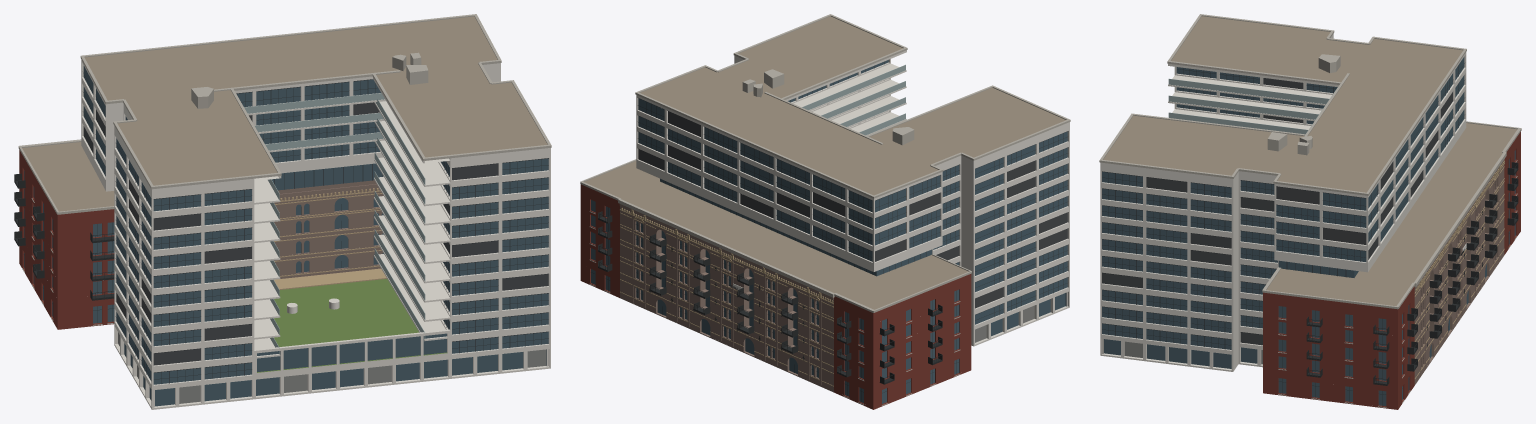
The model's file is pakhuis-australie.glb.
3 views of the same model, side by side, from view 1: azimuth 30°, elevation 25°; view 2: azimuth 150°, elevation 25°; view 3: azimuth 270°, elevation 25° (orthographic). The views are drawn at different scales.
Visible parts, largest first — view 1: pakhuis-australie; view 2: pakhuis-australie; view 3: pakhuis-australie.
Boxes of the visible parts, x1=… form: pakhuis-australie: x1=14, y1=14, x2=551, y2=409; pakhuis-australie: x1=580, y1=14, x2=1070, y2=409; pakhuis-australie: x1=1099, y1=14, x2=1521, y2=409.
Bounding box in the file's own units: 75.83 × 35.9 × 66.87.
